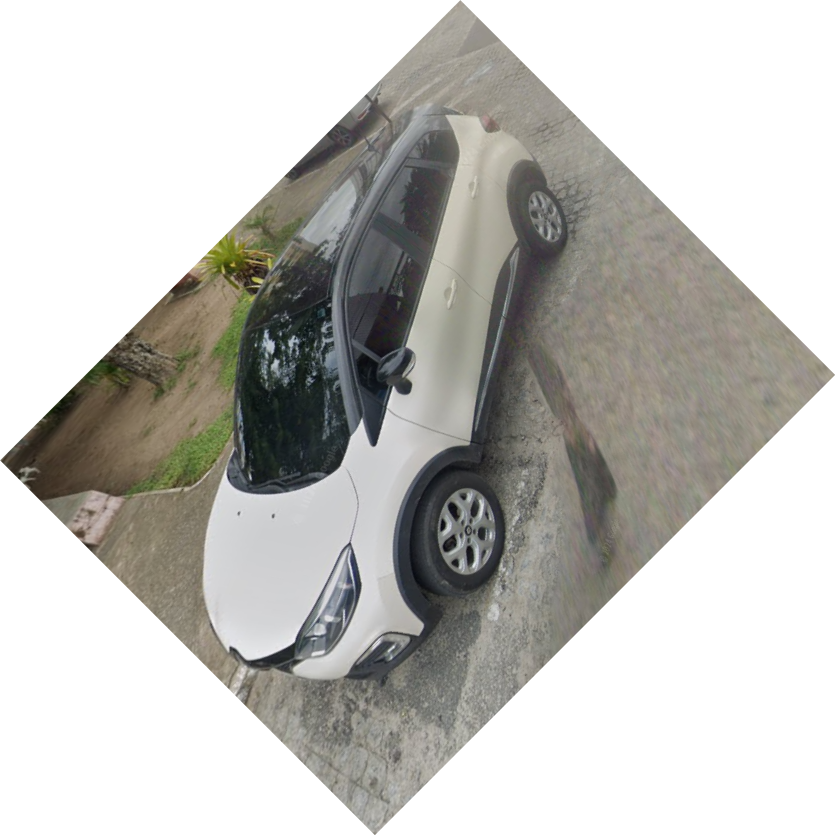car: (199, 100, 568, 684)
